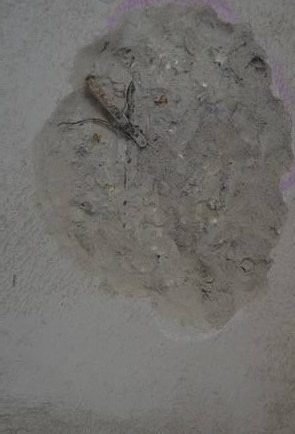Exposed reinforcement: (87, 76, 147, 149)
Spalling: (32, 1, 295, 342)
